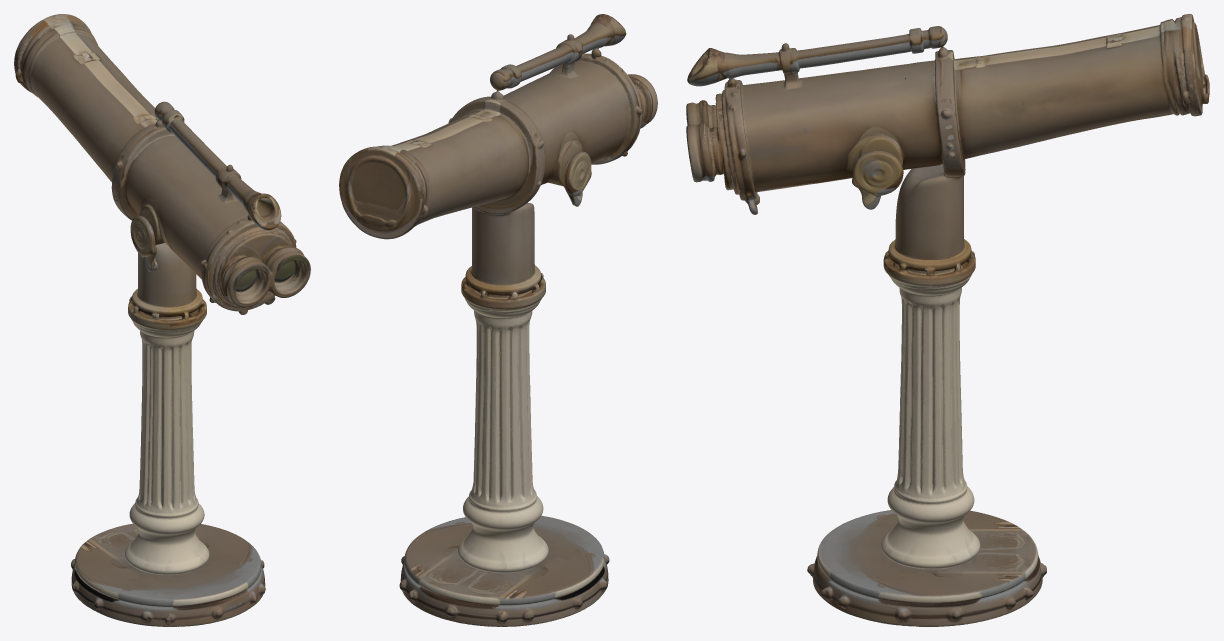
File: loyalty-brass-telescope.glb
3 renders of one model, left to right at view 1: azimuth 30°, elevation 25°; view 2: azimuth 150°, elevation 25°; view 3: azimuth 270°, elevation 25°, orthographic. The views are drawn at different scales.
Visible parts, largest first — view 1: tripo_node_bbb32042-3209-46aa-b0f5-3ad6de7955e9; view 2: tripo_node_bbb32042-3209-46aa-b0f5-3ad6de7955e9; view 3: tripo_node_bbb32042-3209-46aa-b0f5-3ad6de7955e9.
Boxes of the visible parts, box(x1,y1,x2,y2) form: tripo_node_bbb32042-3209-46aa-b0f5-3ad6de7955e9: box(14, 14, 310, 626); tripo_node_bbb32042-3209-46aa-b0f5-3ad6de7955e9: box(339, 14, 657, 626); tripo_node_bbb32042-3209-46aa-b0f5-3ad6de7955e9: box(686, 14, 1209, 626).
Bounding box in the file's own units: 0.3625 × 1 × 0.8419.
Materials: 1 (1 with a texture image).
